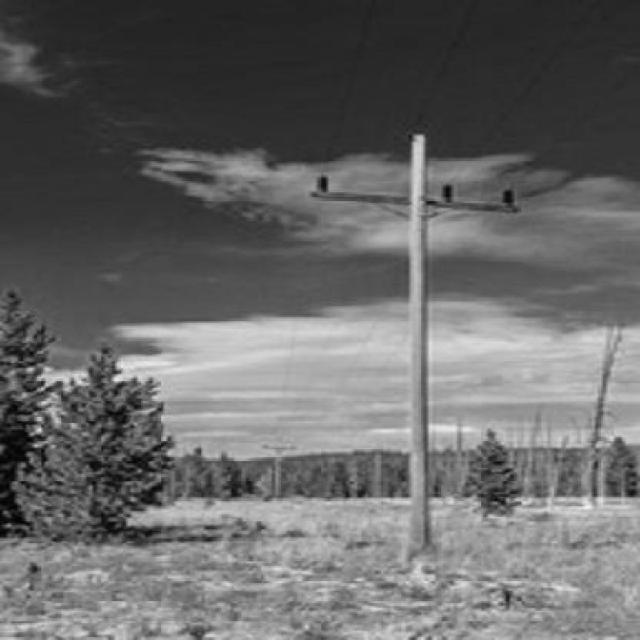Pole: (406, 134, 432, 558)
